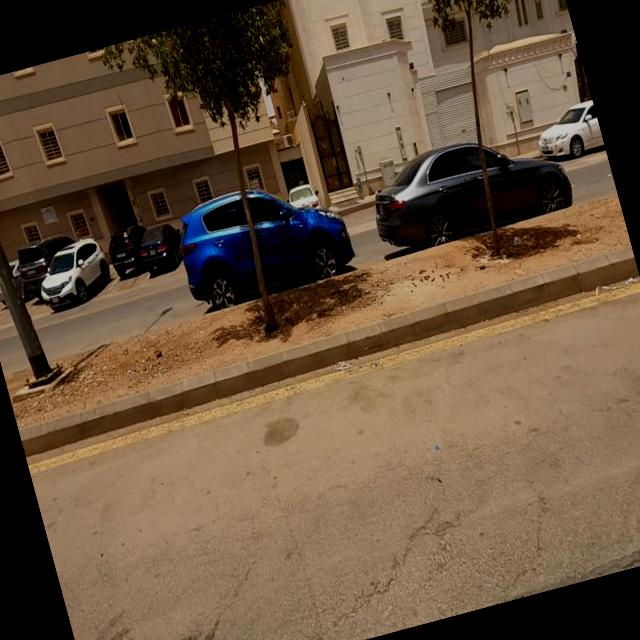debris: (552, 230, 640, 351), (310, 324, 380, 401), (552, 208, 602, 261), (492, 218, 540, 272)
